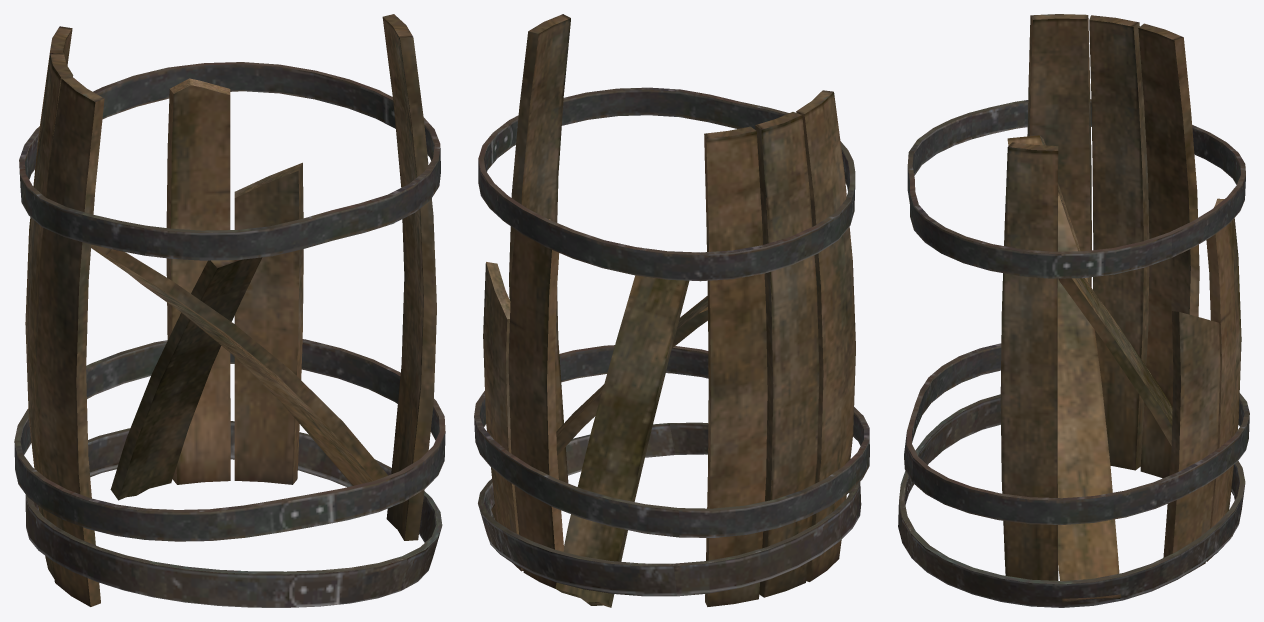
Rendered from barrel3.obj.
3 views of the same model, side by side, from view 1: azimuth 30°, elevation 25°; view 2: azimuth 150°, elevation 25°; view 3: azimuth 270°, elevation 25° (orthographic). The views are drawn at different scales.
Parts seen in each view (by area): view 1: barrel_small_broken; view 2: barrel_small_broken; view 3: barrel_small_broken.
Boxes of the visible parts, x1,y1,x2,y2 form: barrel_small_broken: (14,14,445,607); barrel_small_broken: (474,14,869,607); barrel_small_broken: (898,14,1249,607).
Bounding box in the file's own units: 0.2641 × 0.3411 × 0.2405.
